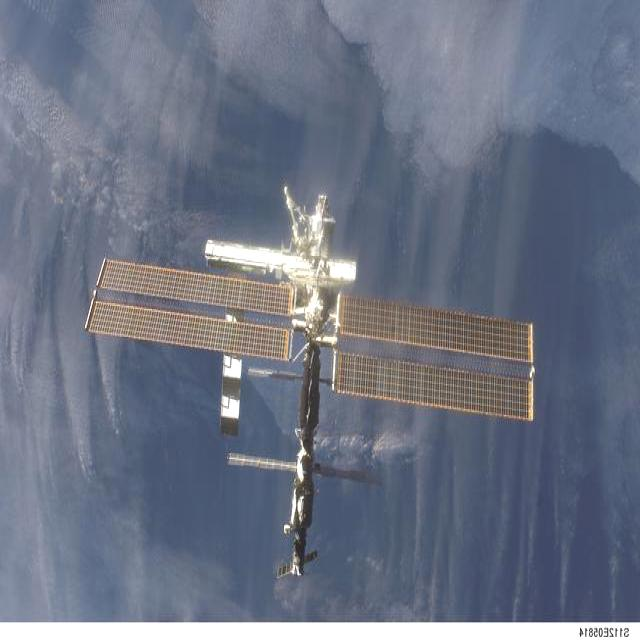medium_debris: (86, 188, 532, 577)
